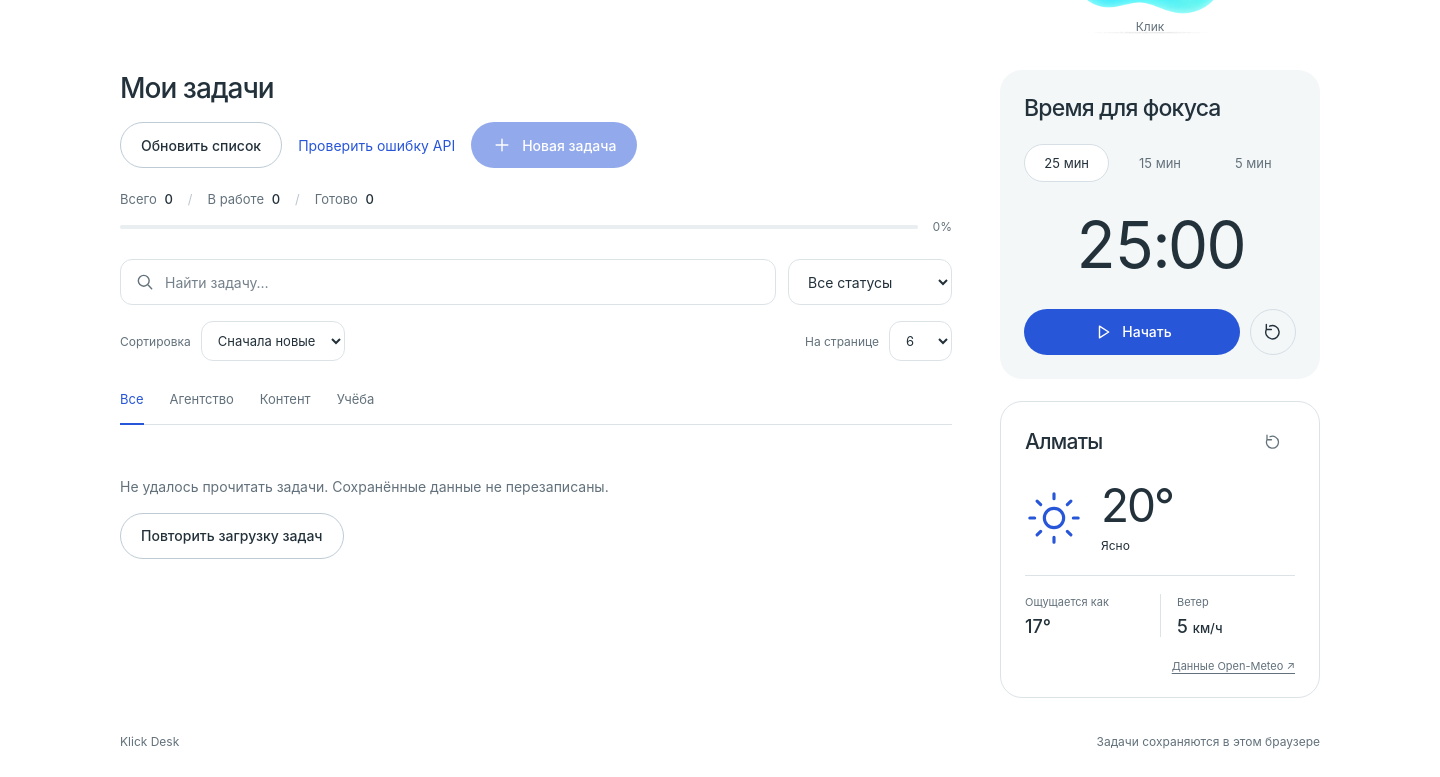
Test: shows an API error and recovers through Retry
(page scrolled)
Expected: the text "Не удалось прочитать задачи. Сохранённые данные не перезаписаны." is shown, x1=120 y1=478 x2=609 y2=495
Click the button "Повторить загрузку задач". click: (232, 536)
box: x1=120 y1=513 x2=344 y2=559
(page scrolled)
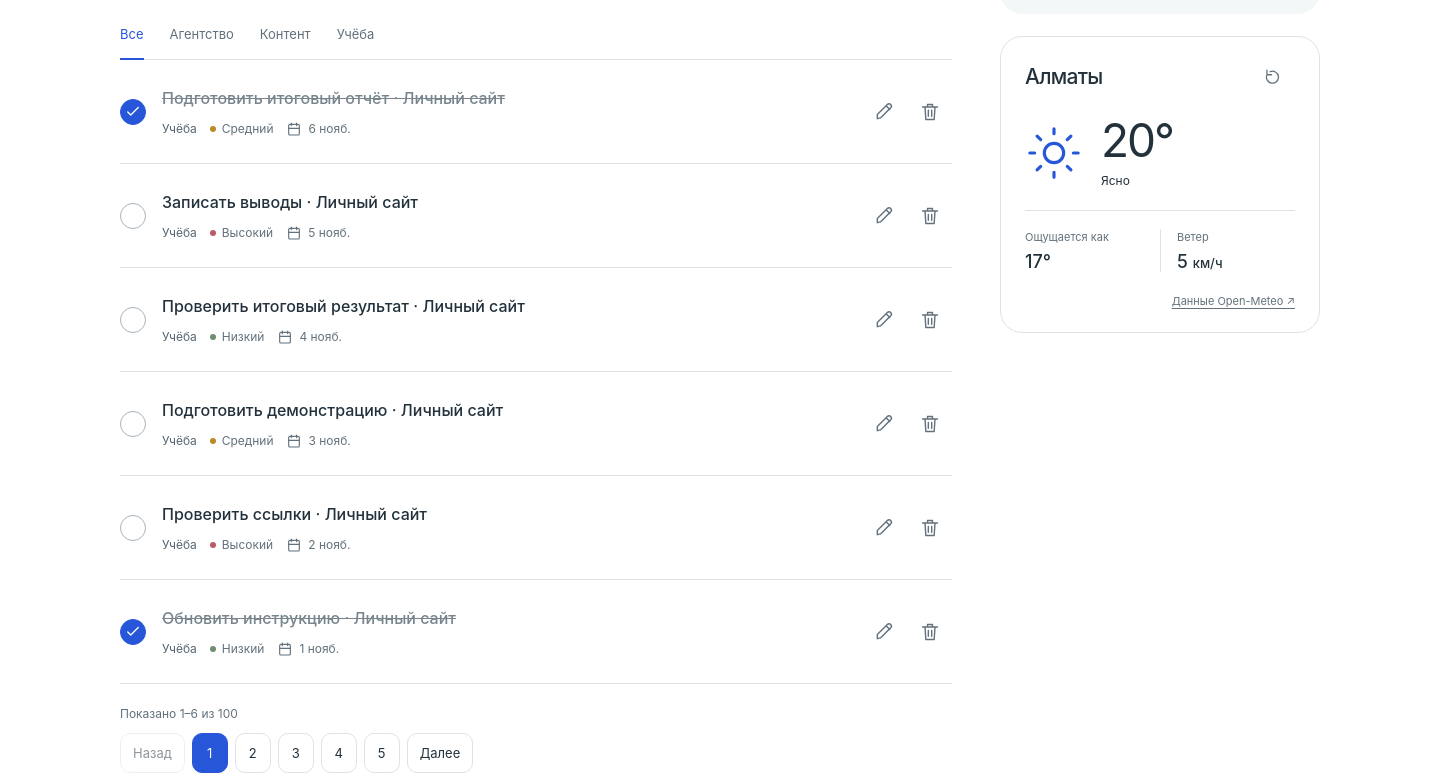
Now the list named "Задачи" is shown, box x1=120 y1=60 x2=952 y2=684
